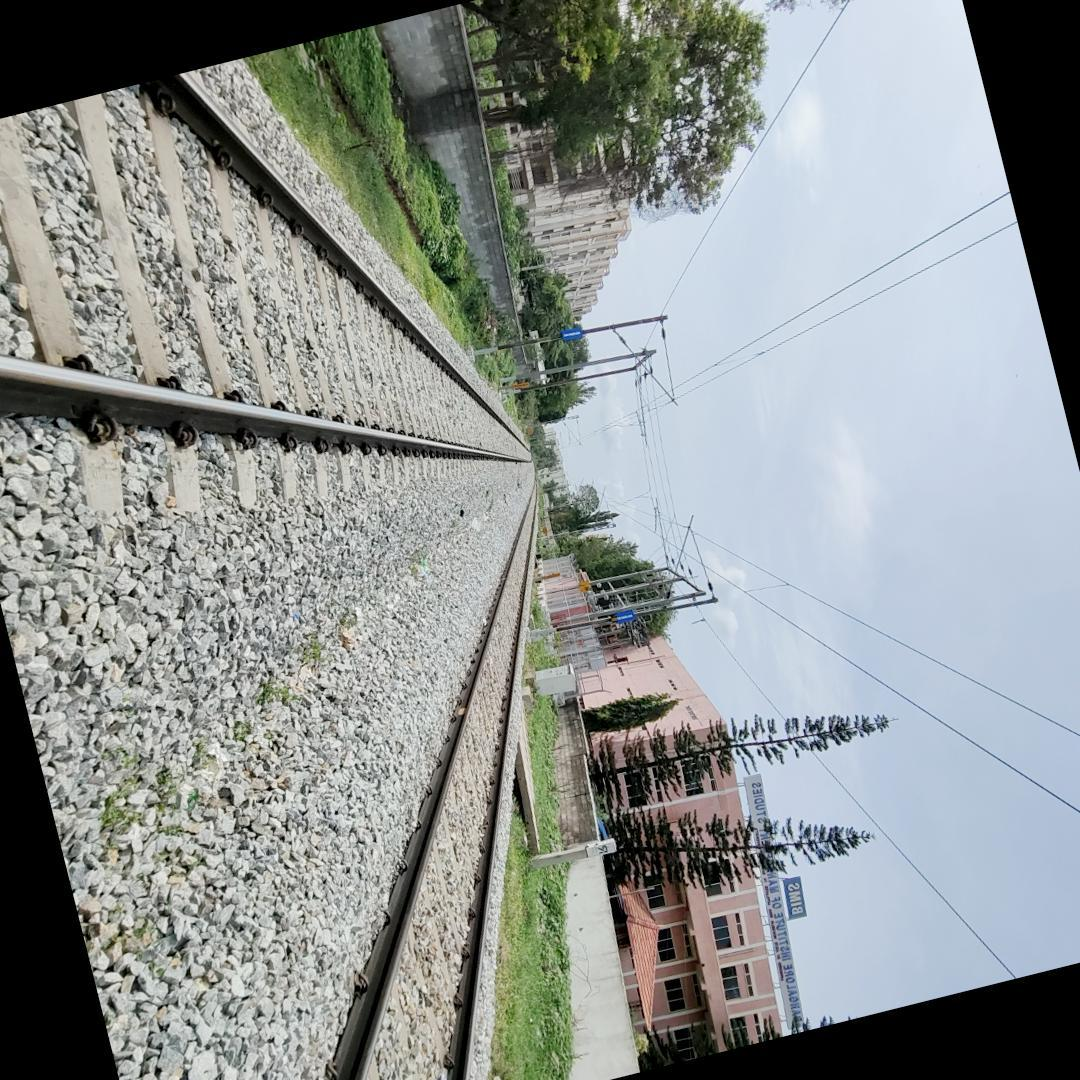track: (0, 59, 533, 514), (276, 480, 541, 1080)
